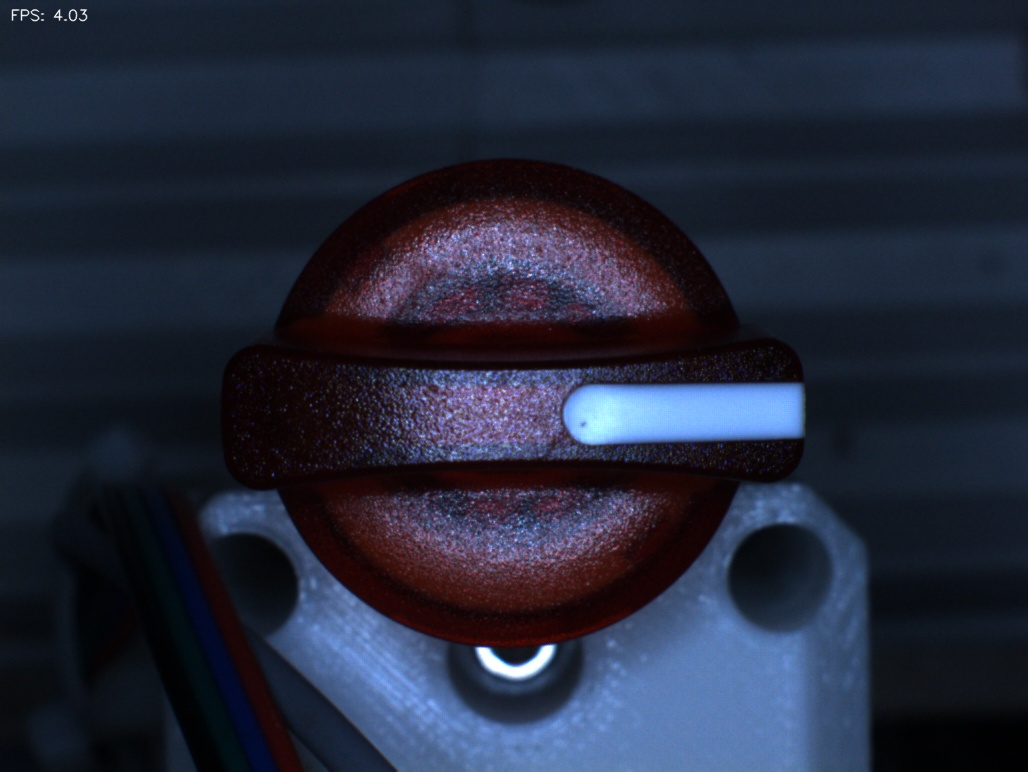PointNoir: (551, 391, 617, 459)
